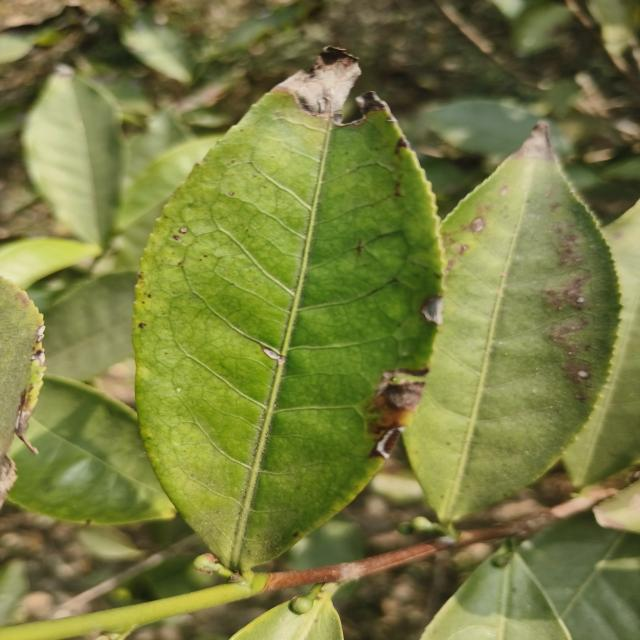Leaf: (133, 79, 441, 572), (405, 122, 619, 525), (9, 376, 174, 524), (564, 200, 640, 488), (23, 65, 122, 245), (519, 512, 640, 640), (420, 546, 570, 640), (0, 277, 45, 505), (44, 271, 137, 380), (425, 99, 536, 158), (0, 237, 101, 290), (121, 18, 192, 83)
